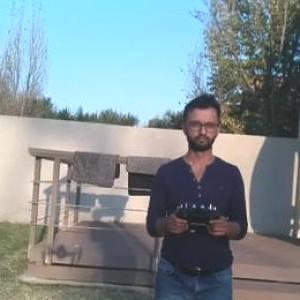follow: (138, 84, 249, 299)
